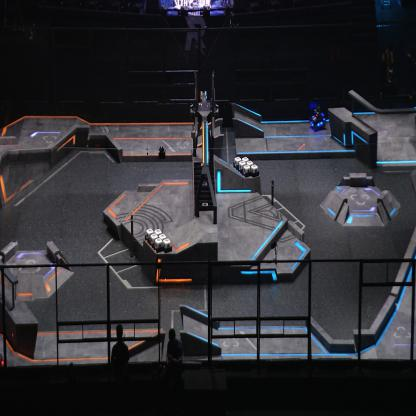car: (309, 104, 326, 132)
